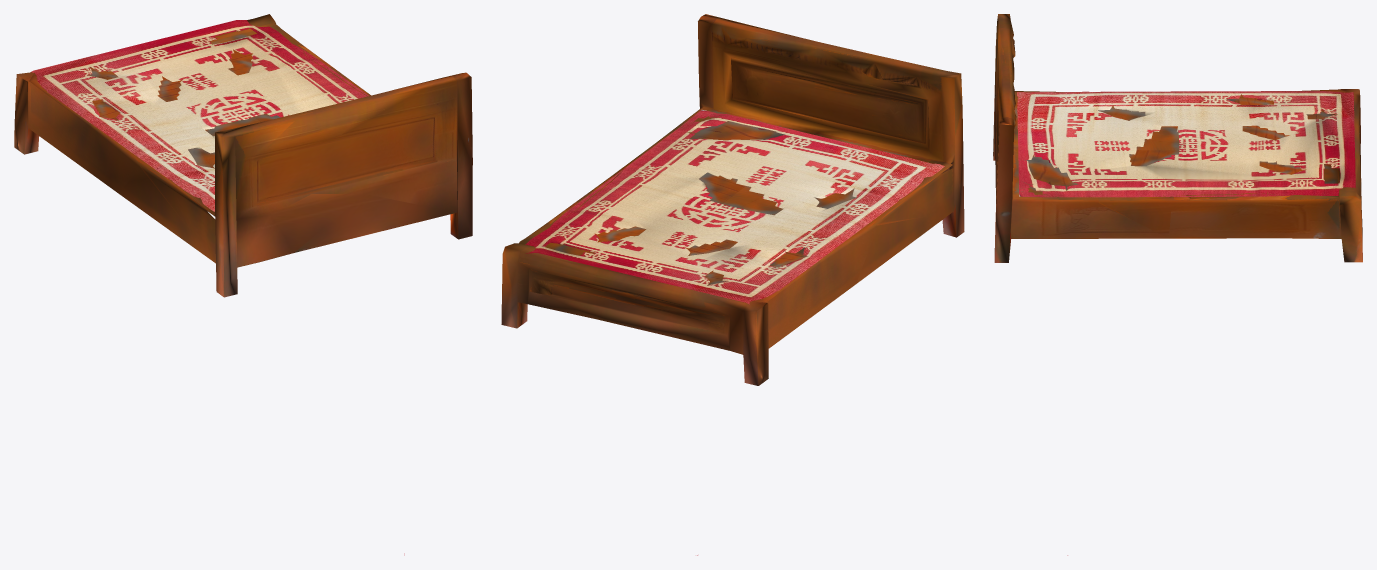
File: vietnamese_bed.glb
The picture shows the model from 3 angles, left to right: view 1: azimuth 30°, elevation 25°; view 2: azimuth 150°, elevation 25°; view 3: azimuth 270°, elevation 25°; orthographic projection. The views are drawn at different scales.
Parts seen in each view (by area): view 1: vietnamese bed_BED_0, Plane.001; view 2: vietnamese bed_BED_0, Plane.001; view 3: Plane.001, vietnamese bed_BED_0.
Part boxes in pixels (left/top/right/bottom): vietnamese bed_BED_0: left=14, top=14, right=472, bottom=297; Plane.001: left=31, top=20, right=404, bottom=555; vietnamese bed_BED_0: left=501, top=14, right=964, bottom=385; Plane.001: left=525, top=110, right=944, bottom=555; Plane.001: left=1017, top=91, right=1355, bottom=555; vietnamese bed_BED_0: left=993, top=14, right=1362, bottom=262.
Size of the model in its own units: 2.2 by 4.14 by 3.12.
2 materials, 2 textured.
